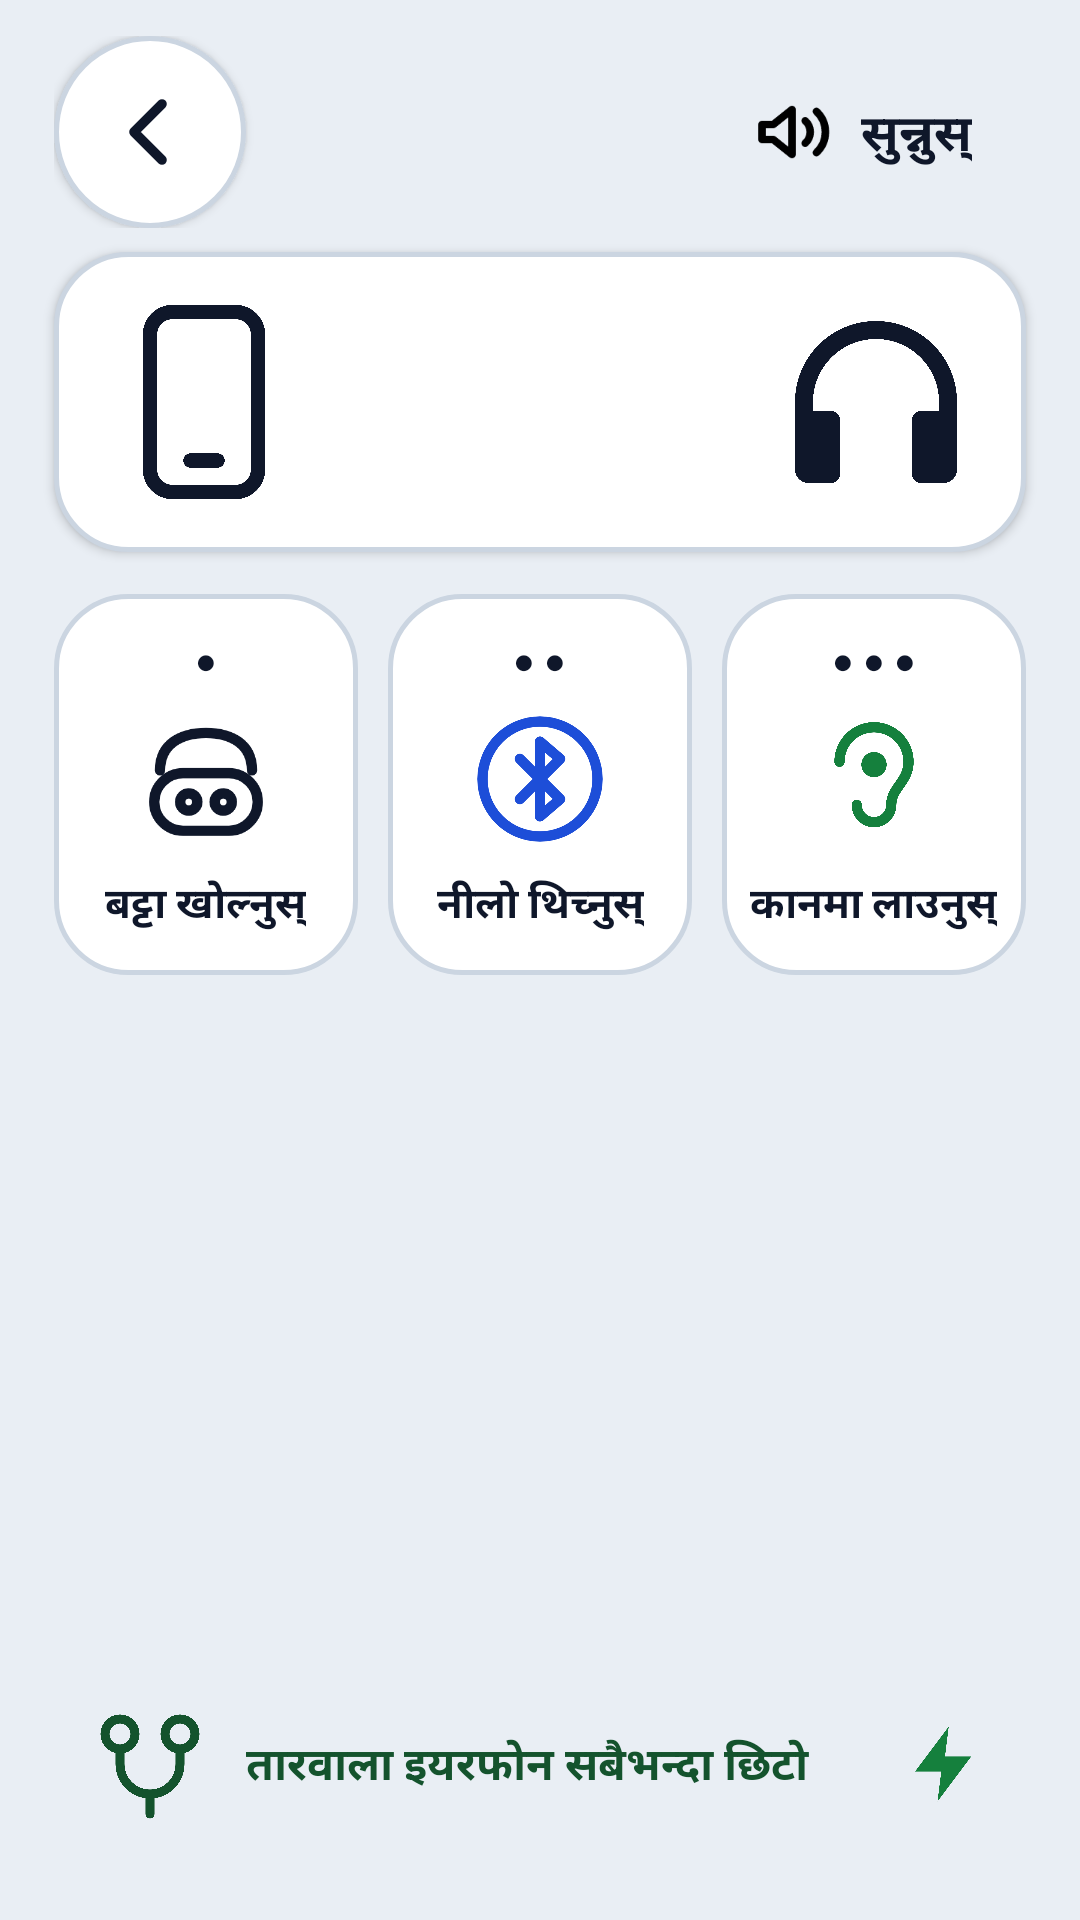

Icon click points for this 1080×1920 phone screenshot, format (x,y):
back: (148,132)
bolt: (943,1763)
case: (206,781)
ear in: (874,774)
earbud: (876,402)
phone: (204,402)
voice: (794,132)
wired: (150,1766)
